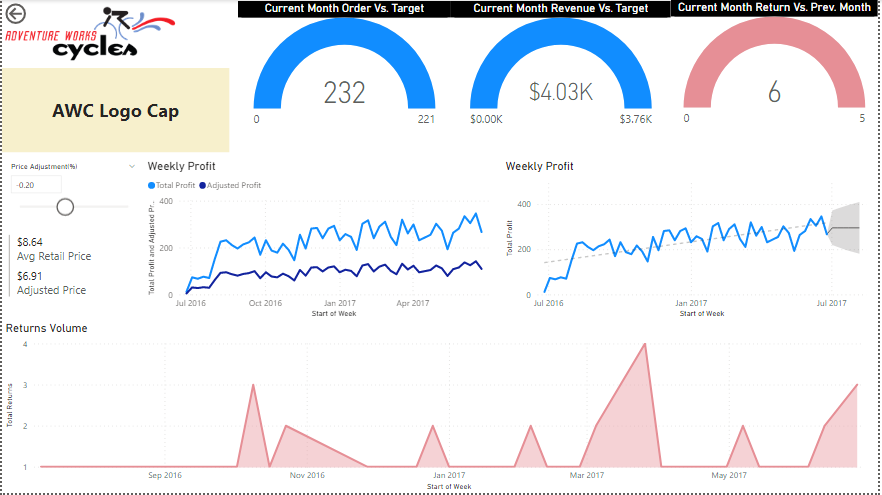

The page's visual inventory and layout, read from the dashboard file:
{"tool":"powerbi","page":{"name":"Product Detail","canvas":[1280,720],"ordinal":1},"visuals":[{"type":"image","box":[0,0,261.4,97.8],"z":0},{"type":"lineChart","title":"Weekly Profit","fields":{"Y":["AW_sales.Total Profit"],"Category":["AW_Calendar_lookup.Start of Week"]},"box":[730.2,232.2,549.1,236.6],"z":1000},{"type":"areaChart","title":" Returns Volume","fields":{"Category":["AW_Calendar_lookup.Start of Week"],"Y":["AW_Returns.Total Returns"]},"box":[0,468.7,1280,252],"z":2000},{"type":"gauge","title":"Current Month Order Vs. Target","fields":{"Y":["AW_sales.Total Orders"],"MaxValue":["AW_sales.Order Target"]},"box":[344.7,1.5,311.1,192.8],"z":3000},{"type":"gauge","title":"Current Month Revenue Vs. Target","fields":{"Y":["AW_sales.Total Revenue"],"MaxValue":["AW_sales.Revenue Target"]},"box":[655.7,1.5,321.3,192.8],"z":4000},{"type":"gauge","title":"Current Month Return Vs. Prev. Month ","fields":{"Y":["AW_Returns.Total Returns"],"MaxValue":["AW_Returns.Prev Month Returns"]},"box":[977,0,302.3,192.8],"z":5000},{"type":"card","fields":{"Values":["Min(AW_Product_Lookup.ProductName)"]},"box":[0,100,332.4,123],"z":6000},{"type":"actionButton","box":[0,0,100,40],"z":7000},{"type":"slicer","fields":{"Values":["Price Adjustment(%).Price Adjustment(%)"]},"box":[0,232.2,207.4,105.2],"z":8000},{"type":"multiRowCard","fields":{"Values":["AW_Product_Lookup.Avg Retail Price","AW_Product_Lookup.Adjusted Price"]},"box":[4.4,337.4,188.4,116.8],"z":9000},{"type":"lineChart","title":"Weekly Profit","fields":{"Y":["AW_sales.Total Profit","AW_sales.Adjusted Profit"],"Category":["AW_Calendar_lookup.Start of Week"]},"box":[207.4,232.2,522.8,236.6],"z":10000}]}

Visuals, with their boxes in screenshot pixels (x1, y1, x2, y2), scaled from the page's 1280x720 canvas onto the 882x495 screenshot:
image: bbox=[0, 0, 180, 67]
"Weekly Profit" lineChart: bbox=[503, 160, 881, 322]
" Returns Volume" areaChart: bbox=[0, 322, 881, 494]
"Current Month Order Vs. Target" gauge: bbox=[238, 1, 452, 134]
"Current Month Revenue Vs. Target" gauge: bbox=[452, 1, 673, 134]
"Current Month Return Vs. Prev. Month " gauge: bbox=[673, 0, 881, 133]
card - Min(AW_Product_Lookup.ProductName): bbox=[0, 69, 229, 153]
actionButton: bbox=[0, 0, 69, 28]
slicer - Price Adjustment(%).Price Adjustment(%): bbox=[0, 160, 143, 232]
multiRowCard - AW_Product_Lookup.Avg Retail Price x AW_Product_Lookup.Adjusted Price: bbox=[3, 232, 133, 312]
"Weekly Profit" lineChart: bbox=[143, 160, 503, 322]
